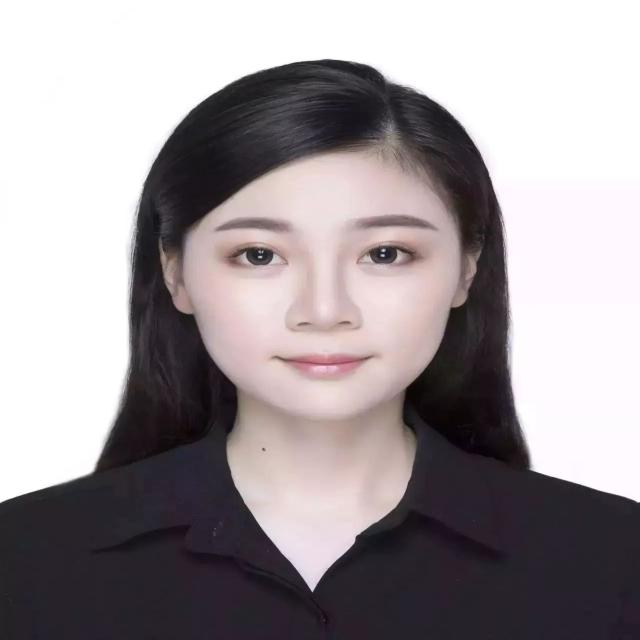Open: (355, 240, 419, 268), (224, 242, 288, 269)
